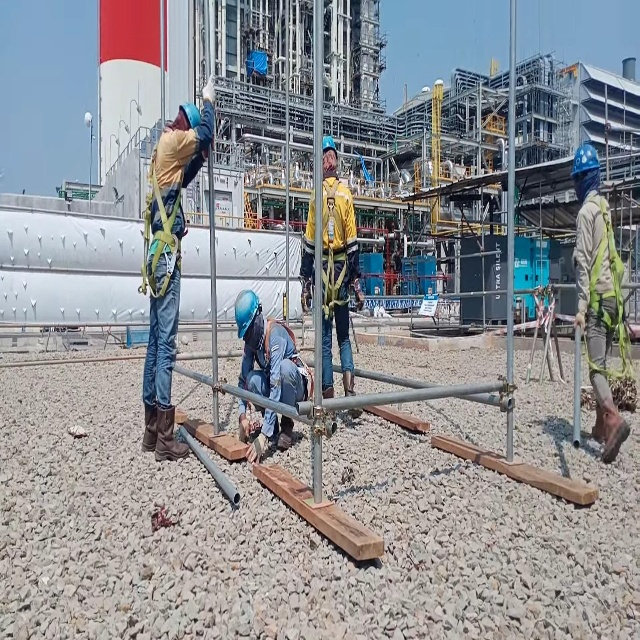Arnes_seguridad: (579, 185, 635, 384), (136, 130, 188, 300), (255, 311, 317, 405), (321, 179, 354, 317)
